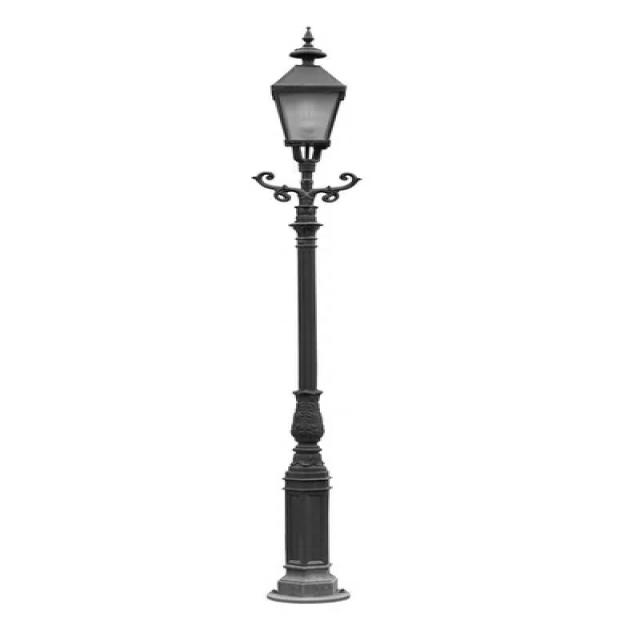Pole: (253, 27, 360, 604)
